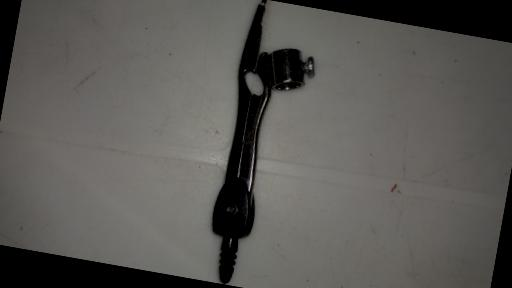Compass: (199, 0, 326, 288)
